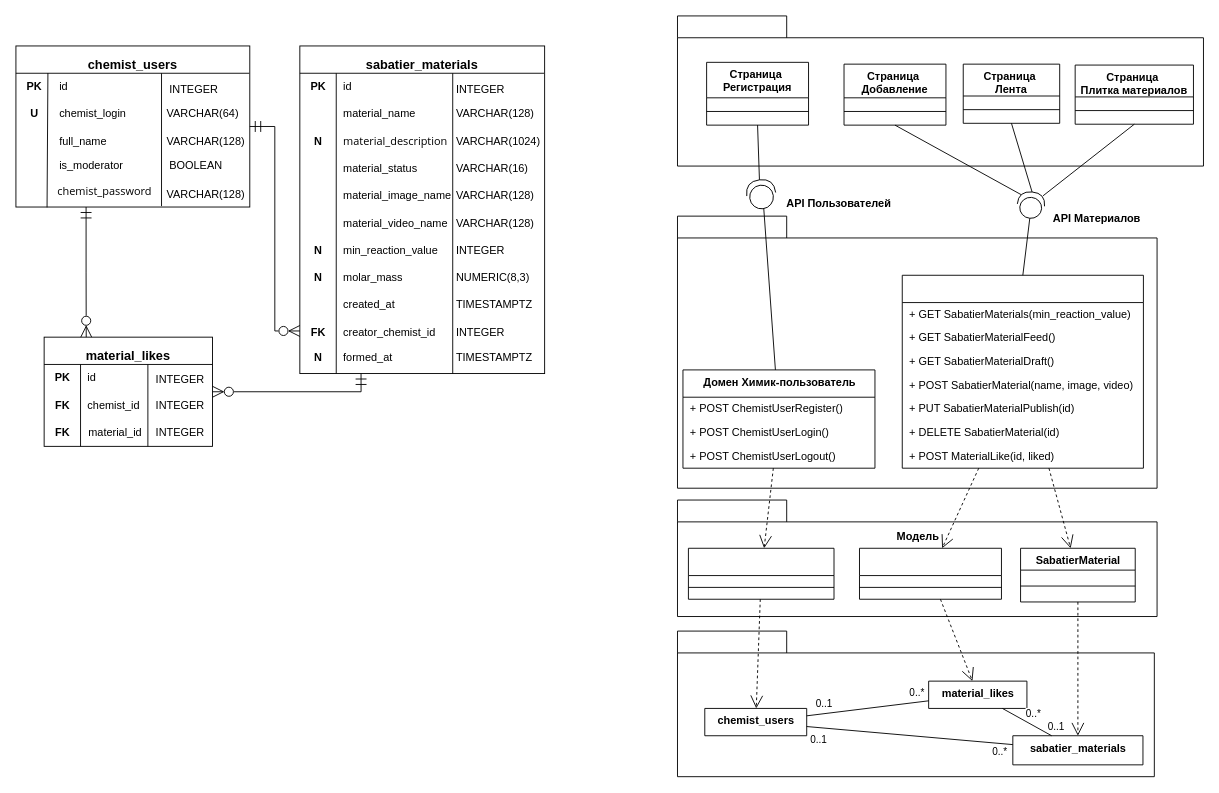
Image size: 1219x793. Some labels were removed from this diagram. The box of each missing label's shape, as (x1, y1, x2, y2) in pixels:
ChemistUser: (688, 547, 834, 599)
MaterialLike: (859, 547, 1001, 599)
React приложение: (677, 15, 1203, 166)
База данных: (677, 630, 1154, 777)
Веб-сервис: (677, 215, 1157, 488)
Домен Материал: (901, 274, 1143, 468)
